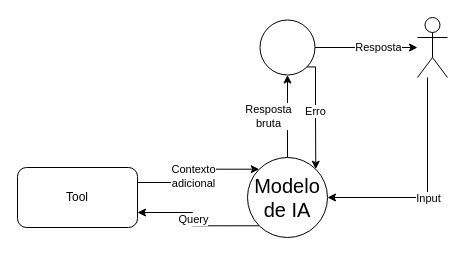
The diagram is 470 pixels wide and 255 high, and some of its shapes have lost their labels. Each missing label, with the centre of its shape:
"Pydantic (gate)" belongs at [287,47].
"Usuário" belongs at [432,47].
